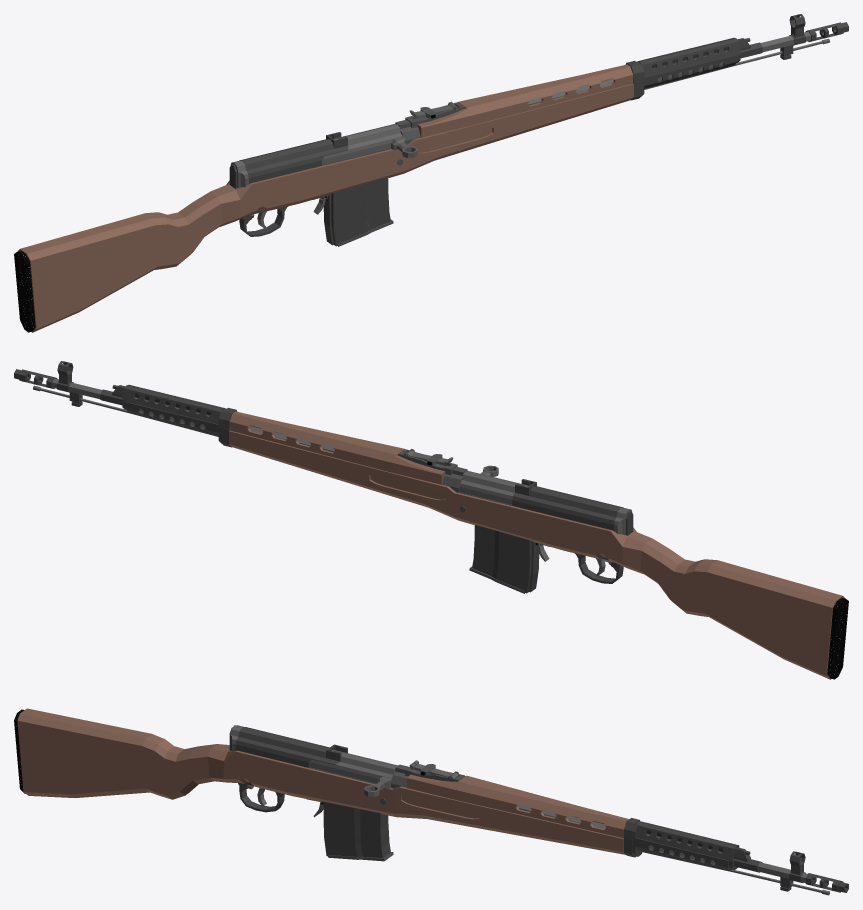
Rendered from SVT.fbx.
3 views of the same model, one above another, from view 1: azimuth 30°, elevation 25°; view 2: azimuth 150°, elevation 25°; view 3: azimuth 330°, elevation 25° (orthographic).
Visible parts, largest first — view 1: SKS_Base, SKS_Mag, SKS_Ramp; view 2: SKS_Base, SKS_Mag, SKS_Ramp; view 3: SKS_Base, SKS_Mag, SKS_Ramp.
Part boxes in pixels (x1,y1,x2,y2): SKS_Base: (14, 14, 848, 332); SKS_Mag: (323, 177, 393, 246); SKS_Ramp: (322, 124, 417, 164); SKS_Base: (14, 361, 848, 679); SKS_Mag: (469, 524, 539, 593); SKS_Ramp: (459, 465, 528, 504); SKS_Base: (14, 708, 848, 895); SKS_Mag: (323, 802, 393, 861); SKS_Ramp: (309, 750, 397, 796).
Size of the model in its own units: 951 by 142 by 63.02.
